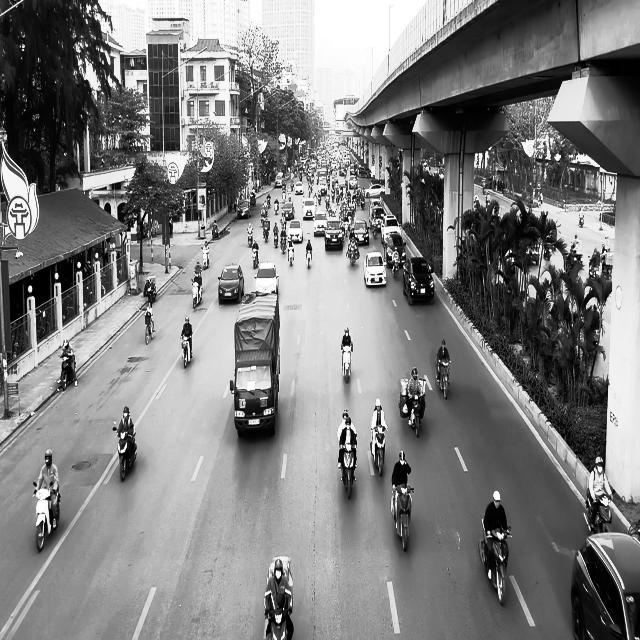car: (570, 531, 640, 639), (402, 257, 435, 305), (217, 264, 244, 304), (253, 260, 279, 296), (364, 250, 386, 286), (385, 233, 406, 267), (324, 218, 344, 250), (352, 219, 370, 245), (312, 211, 328, 236), (287, 220, 303, 242), (302, 198, 316, 220), (237, 199, 251, 219)
motorbike: (478, 518, 512, 606), (32, 481, 61, 552), (390, 484, 415, 551), (112, 423, 137, 481), (583, 494, 612, 534), (265, 594, 290, 640), (339, 441, 356, 499), (371, 424, 386, 476), (435, 355, 451, 399), (58, 354, 77, 391), (407, 392, 422, 437), (340, 342, 352, 383), (181, 334, 192, 368), (191, 276, 202, 308), (144, 312, 154, 345), (346, 240, 358, 266), (251, 245, 259, 268), (201, 246, 209, 269), (287, 239, 294, 265), (262, 221, 270, 242), (392, 258, 399, 279), (306, 245, 312, 268), (248, 230, 254, 246)
truck: (230, 290, 280, 438)
